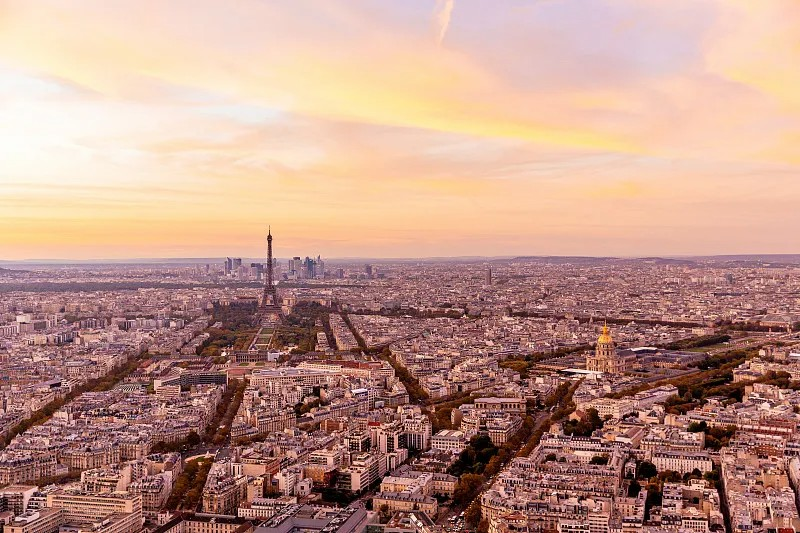Eiffel: (251, 225, 287, 329)
